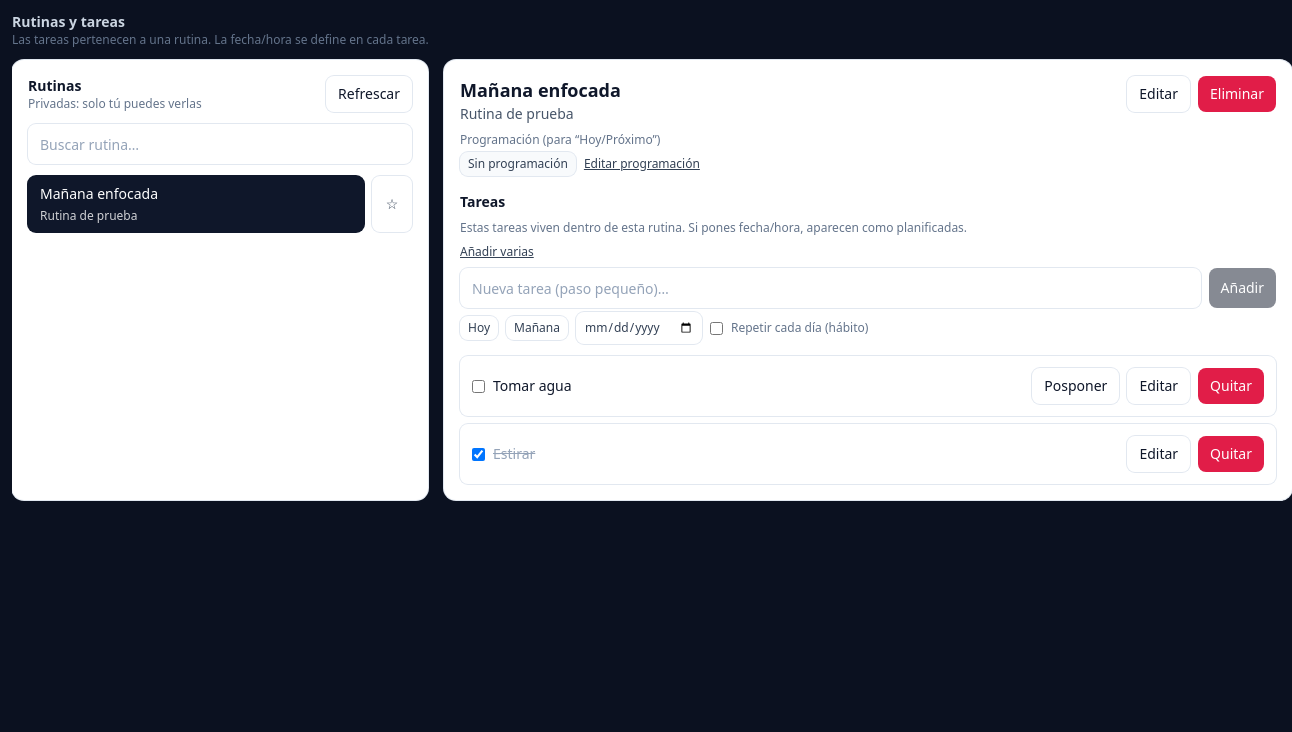
Test: RoutinePanel with a selected routine › clears bulk text with the "Limpiar" button
Check: the heading "Mañana enfocada" is shown, box [460,78,621,102]
Step 1. Click the button "Añadir varias" → (497,252), box [460,244,534,260]
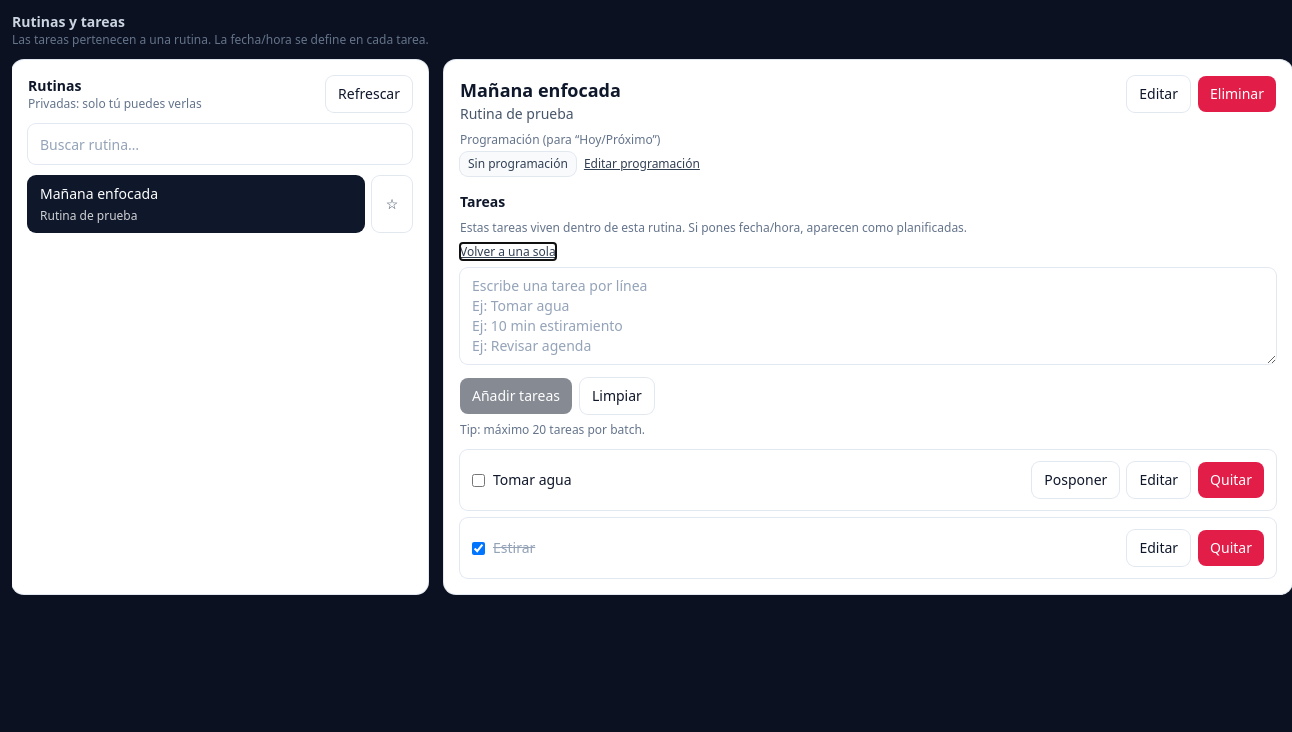
Step 2. Type "Algo" into the text box with placeholder "Escribe una tarea por línea" → (868,316), box [460,268,1276,364]
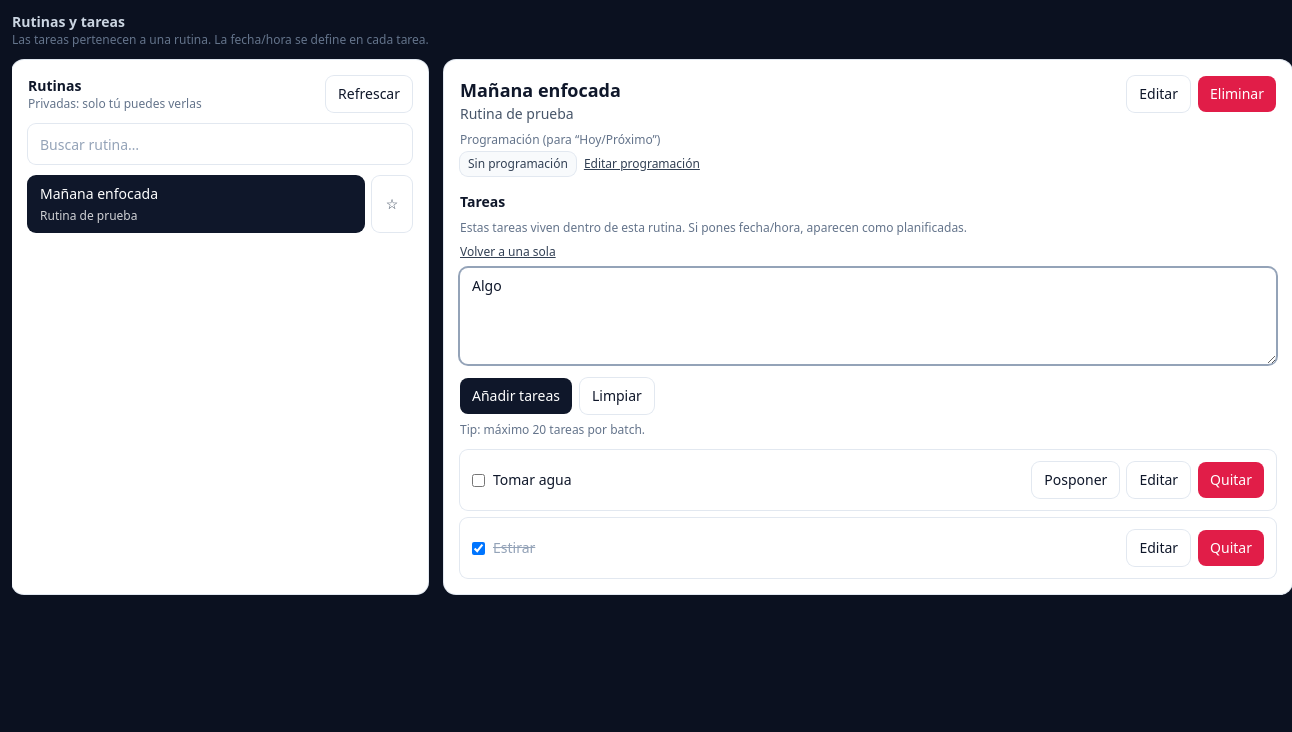
Step 3. Click the button "Limpiar" → (617,396), box [580,378,654,414]
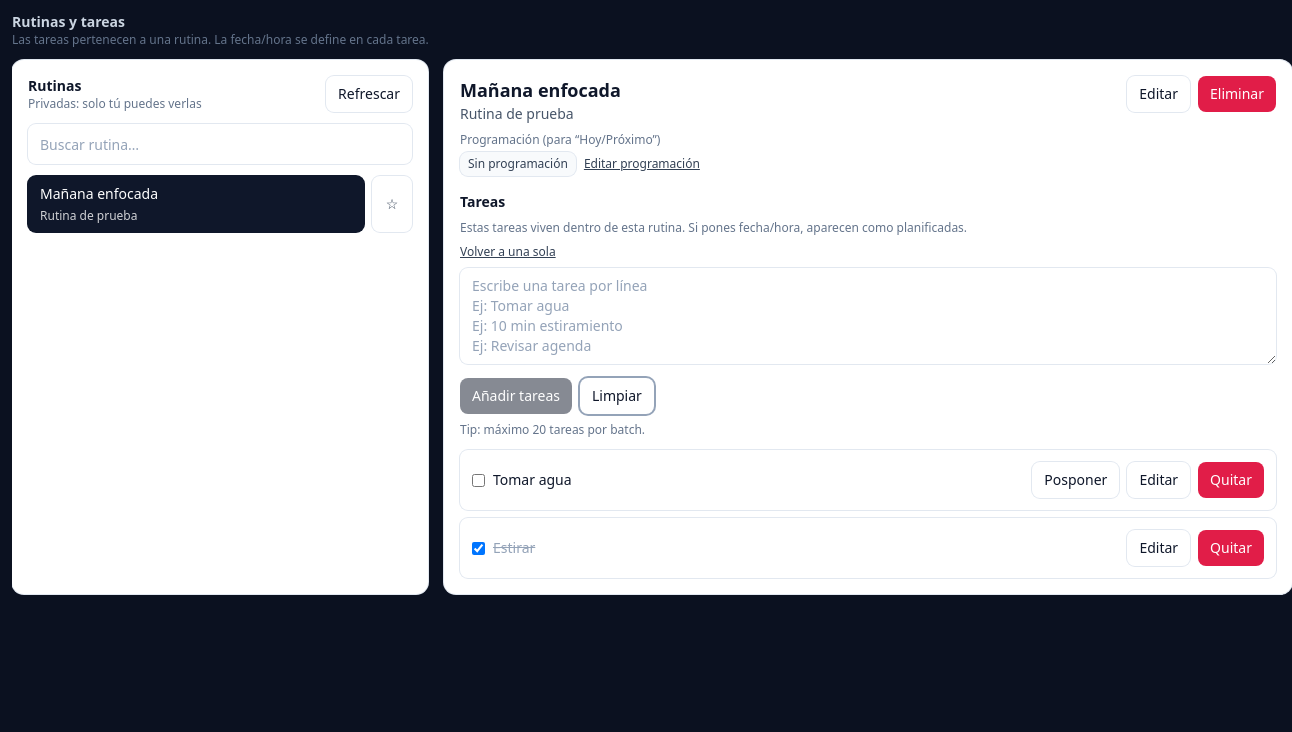
Check: the text box with placeholder "Escribe una tarea por línea" is empty, box [460,268,1276,364]
